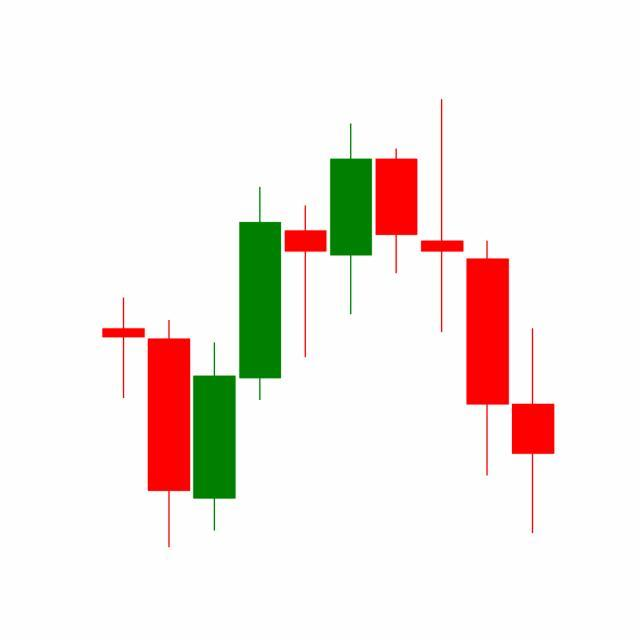Hikkake Pattern: (283, 99, 512, 481)
